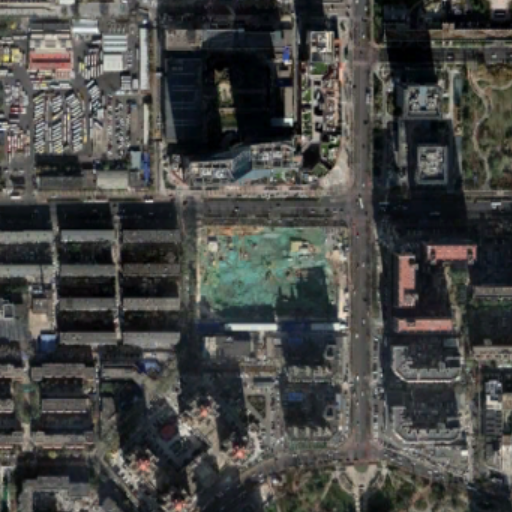cw: (196, 227, 339, 313)
